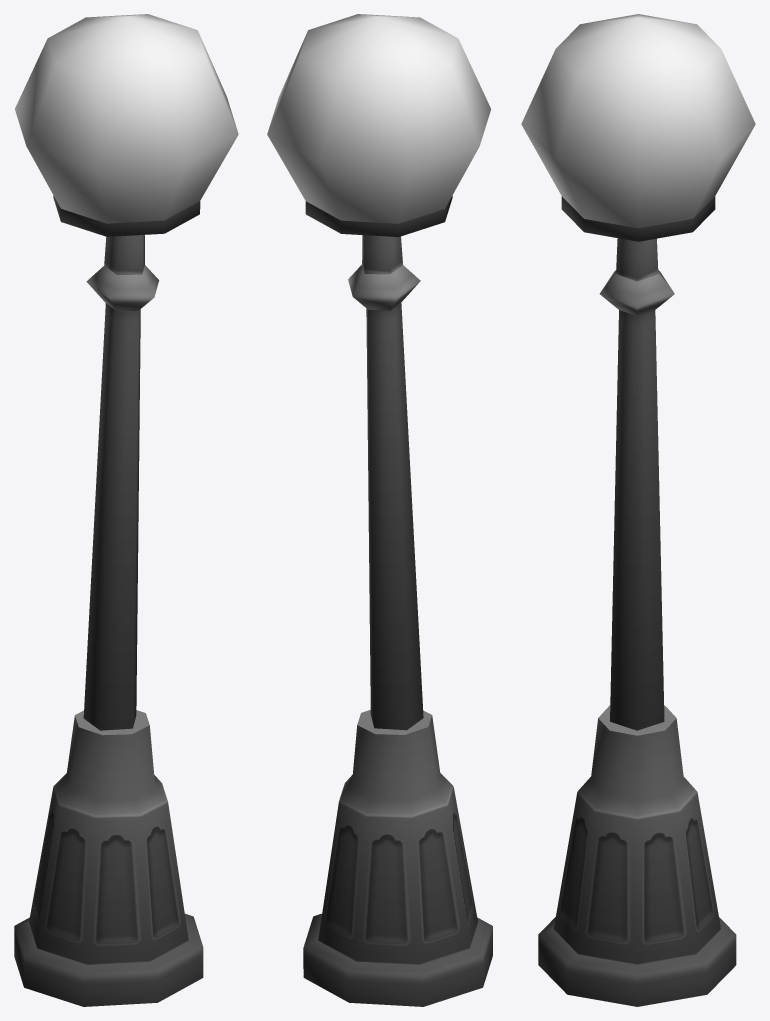
File: LampPostOmni.FBX
3 views of the same model, side by side, from view 1: azimuth 30°, elevation 25°; view 2: azimuth 150°, elevation 25°; view 3: azimuth 270°, elevation 25° (orthographic).
Parts seen in each view (by area): view 1: LampPostOmni; view 2: LampPostOmni; view 3: LampPostOmni.
Boxes of the visible parts, bbox=[...] form: LampPostOmni: bbox=[14, 14, 238, 1006]; LampPostOmni: bbox=[267, 14, 492, 1006]; LampPostOmni: bbox=[521, 14, 755, 1006].
Size of the model in its own units: 82.34 by 365 by 81.19.
1 material, 1 textured.
